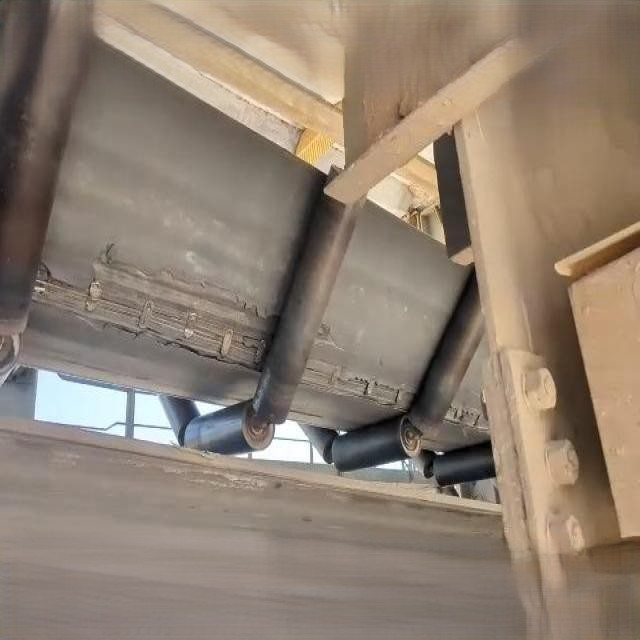Tear: (30, 226, 288, 382), (305, 356, 417, 416)
Wear: (308, 316, 348, 357)
